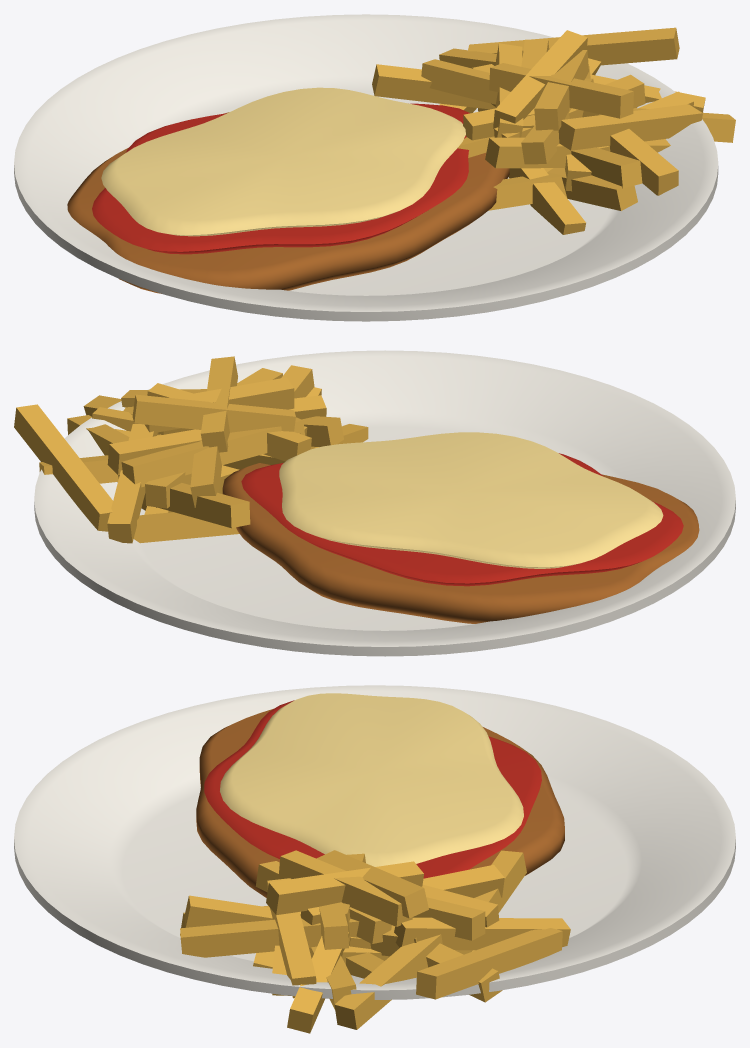
Rendered from napolitana.glb.
3 views of the same model, one above another, from view 1: azimuth 30°, elevation 25°; view 2: azimuth 150°, elevation 25°; view 3: azimuth 270°, elevation 25° (orthographic). The views are drawn at different scales.
Parts seen in each view (by area): view 1: plato; view 2: plato; view 3: plato.
Part boxes in pixels (box(x1,y1,x2,y2)): plato: box(14, 14, 735, 321); plato: box(14, 350, 735, 656); plato: box(14, 685, 735, 1033).
Size of the model in its own units: 0.2868 by 0.0512 by 0.27.
